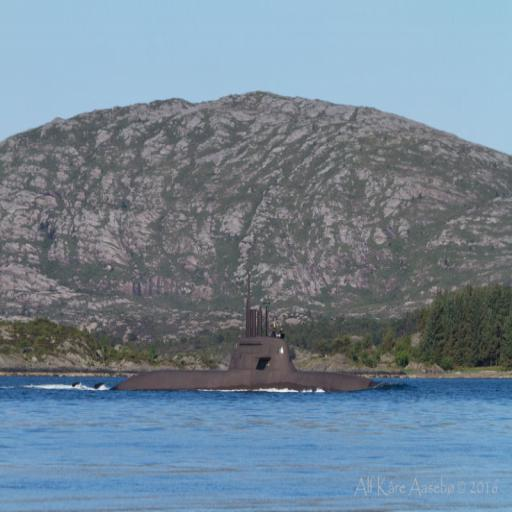submarine: (123, 275, 378, 395)
